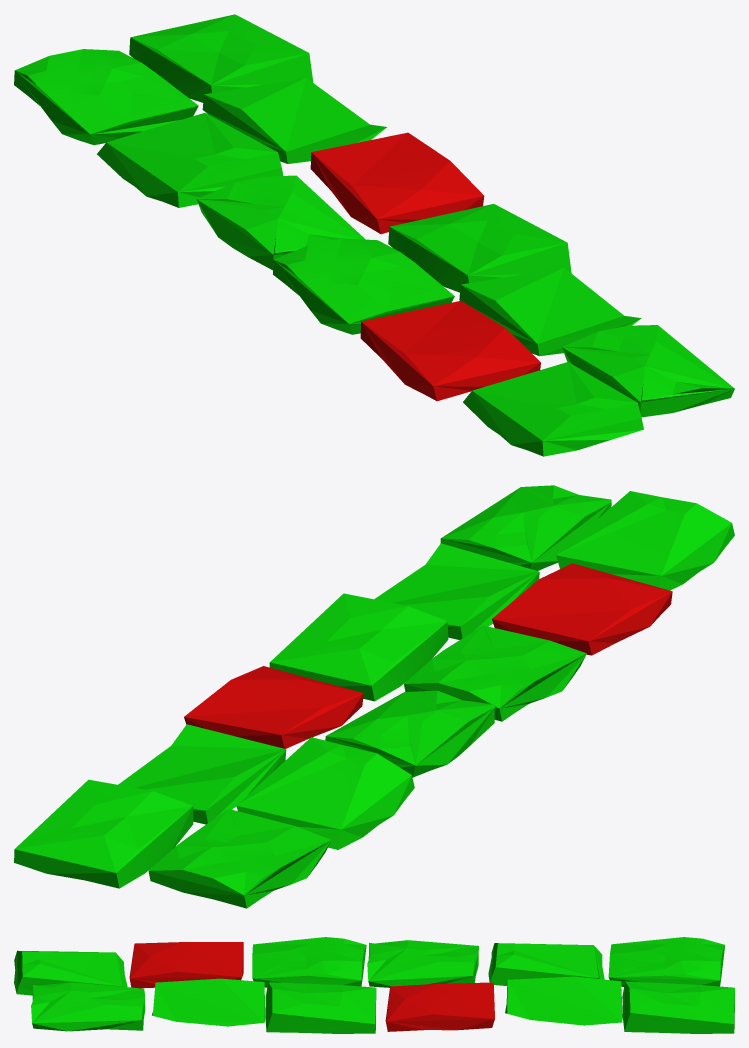
File: Cobblestone_06.fbx
3 views of the same model, one above another, from view 1: azimuth 30°, elevation 25°; view 2: azimuth 150°, elevation 25°; view 3: azimuth 270°, elevation 25° (orthographic). The views are drawn at different scales.
Parts seen in each view (by area): view 1: Plane.006; view 2: Plane.006; view 3: Plane.006.
Boxes of the visible parts, <box> form: Plane.006: <box>14,14,734,456</box>; Plane.006: <box>14,485,734,908</box>; Plane.006: <box>14,937,734,1033</box>.
Bounding box in the file's own units: 106 × 18.02 × 401.
